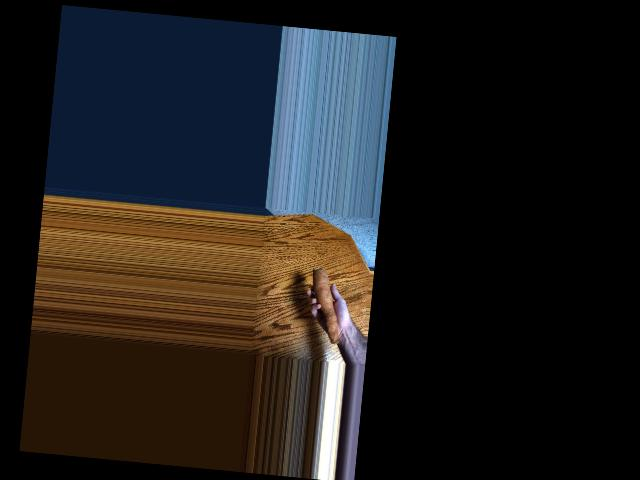sweet_potato: (304, 267, 347, 343)
